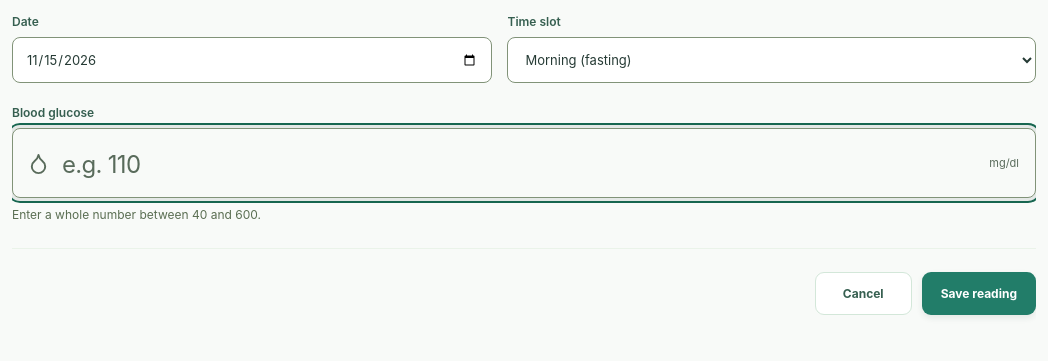
Reading form › rejects a future date even when native date restrictions are bypassed
Type "110" into the number field labelled "Blood glucose". click: x=524, y=163
box: [12,128,1036,198]
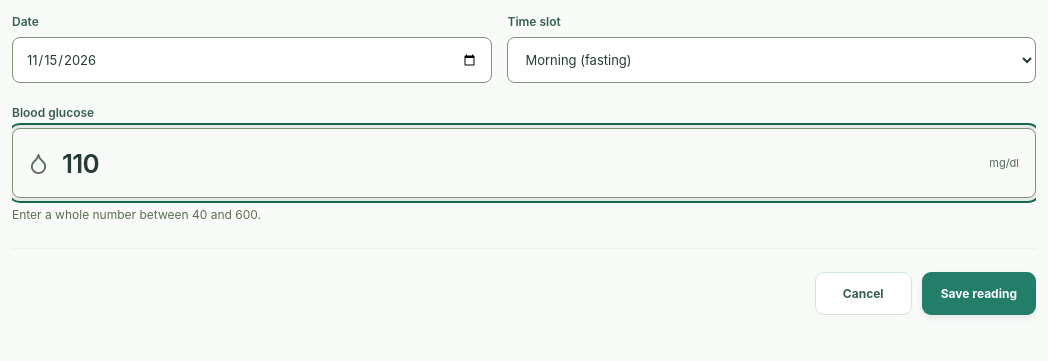
Type "2026-11-16" into the date field labelled "Date". click: x=252, y=60
box: [12,37,492,83]
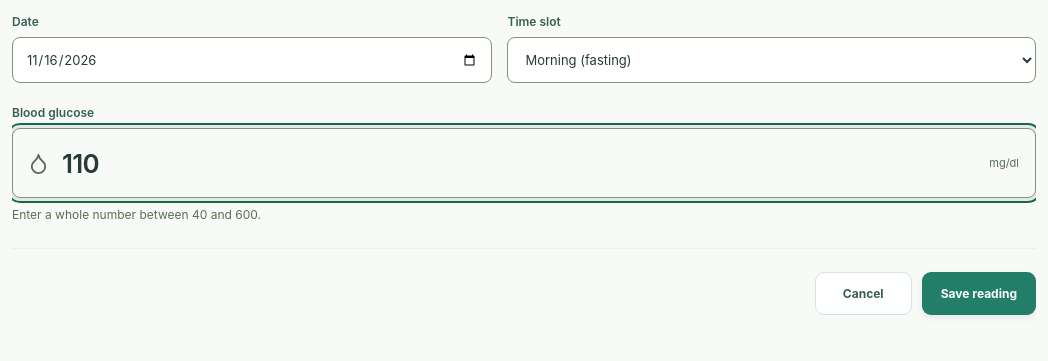
Click the button "Save reading". click: x=979, y=294
box: [922,272,1036,315]
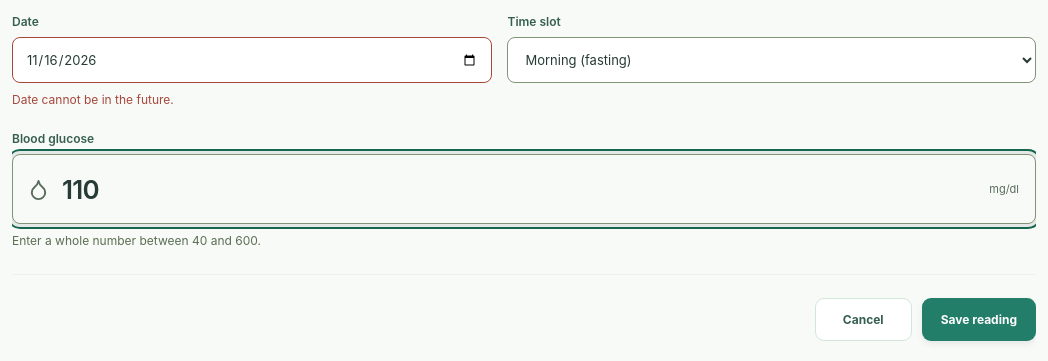
Expected: the text "Date cannot be in the future." is shown, [12,92,174,107]
